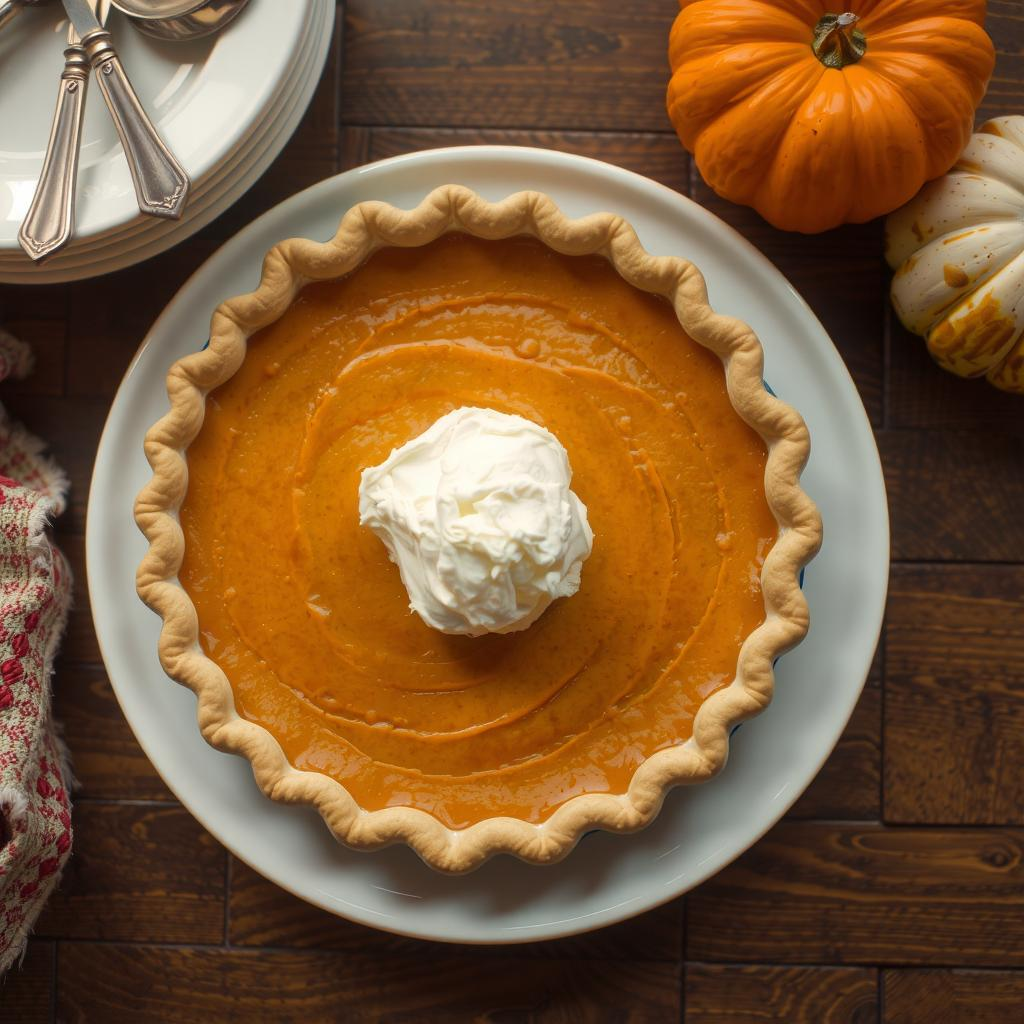pie: (126, 183, 830, 879)
